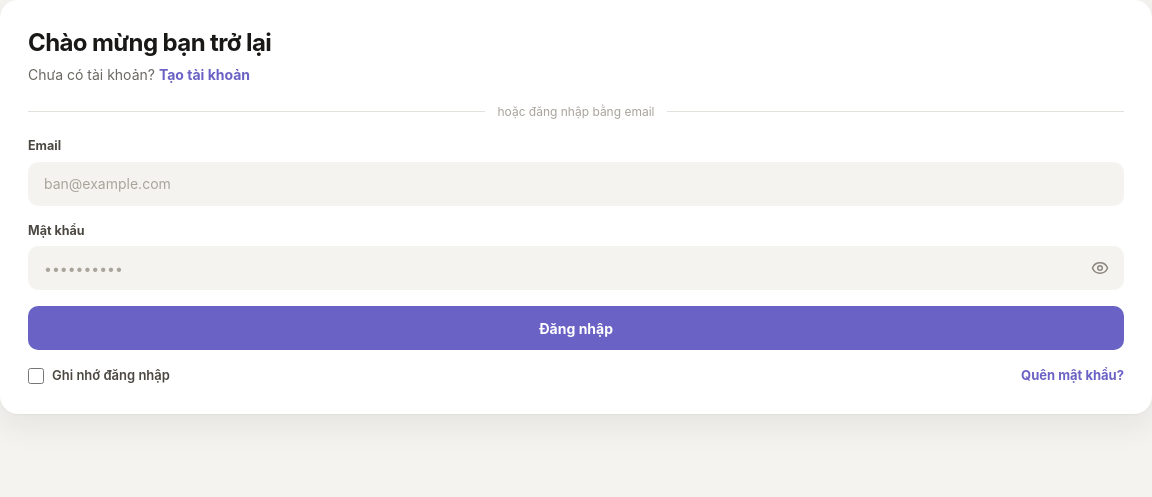
Test: LoginPage — câu lỗi của BE theo ngôn ngữ đang hiển thị › locale vi ⇒ hiện câu tiếng Việt thay vì message thô của BE
This screenshot has width=1152, height=497.
Step 1. Type "hiep@flintflow.vn" into the field labelled "Email" → (576, 184), box [28,162,1124,206]
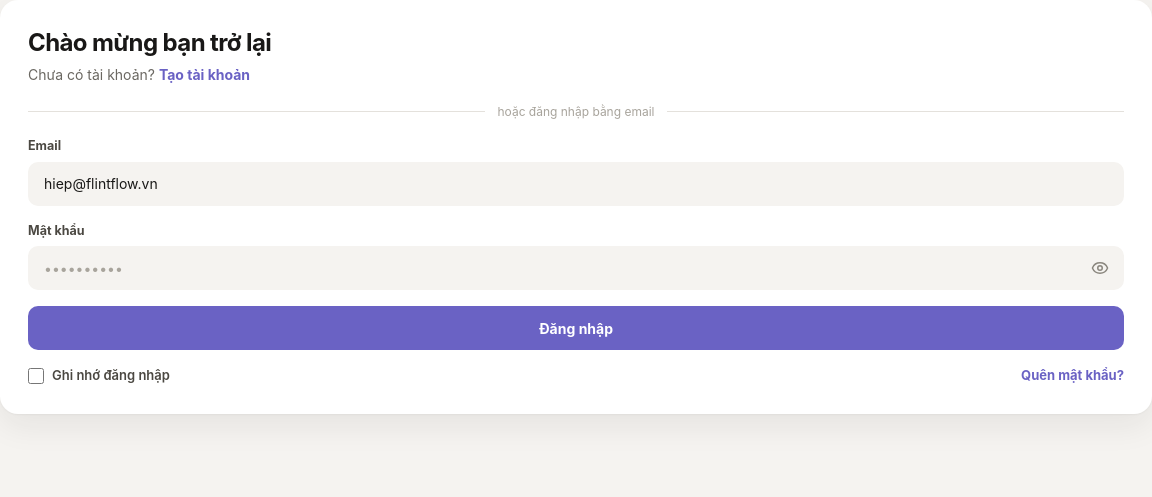
Step 2. Type "sai-mat-khau" into the password field labelled "Mật khẩu" → (576, 268), box [28,246,1124,290]
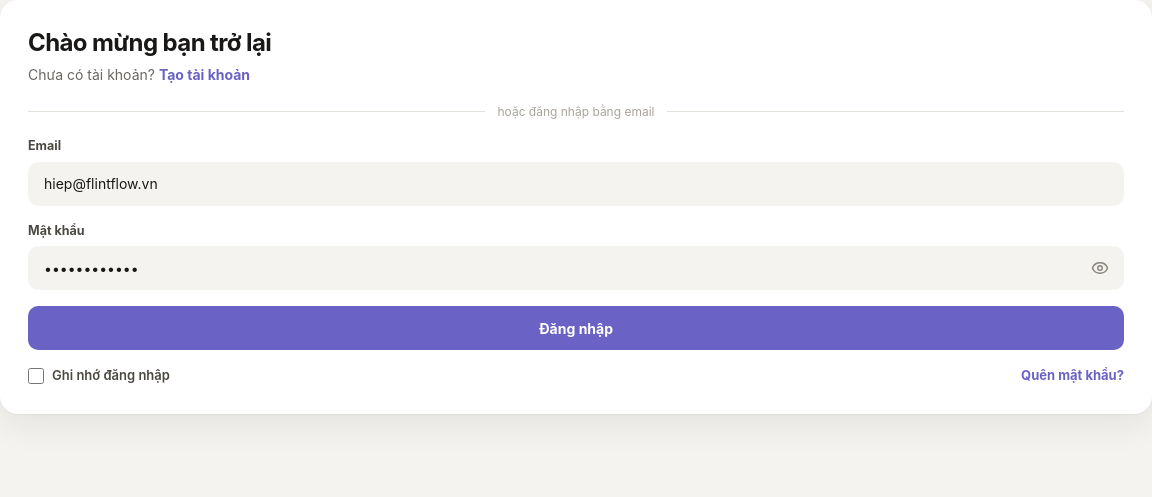
Step 3. Click the button "Đăng nhập" → (576, 328), box [28,306,1124,350]
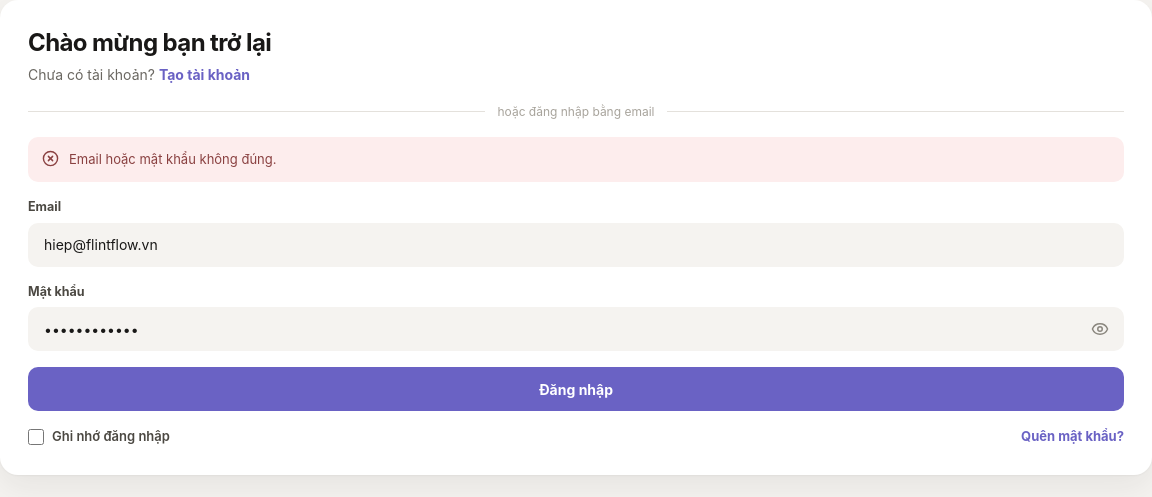
Check: the text "Email hoặc mật khẩu không đúng." is shown, box [69,151,276,167]
